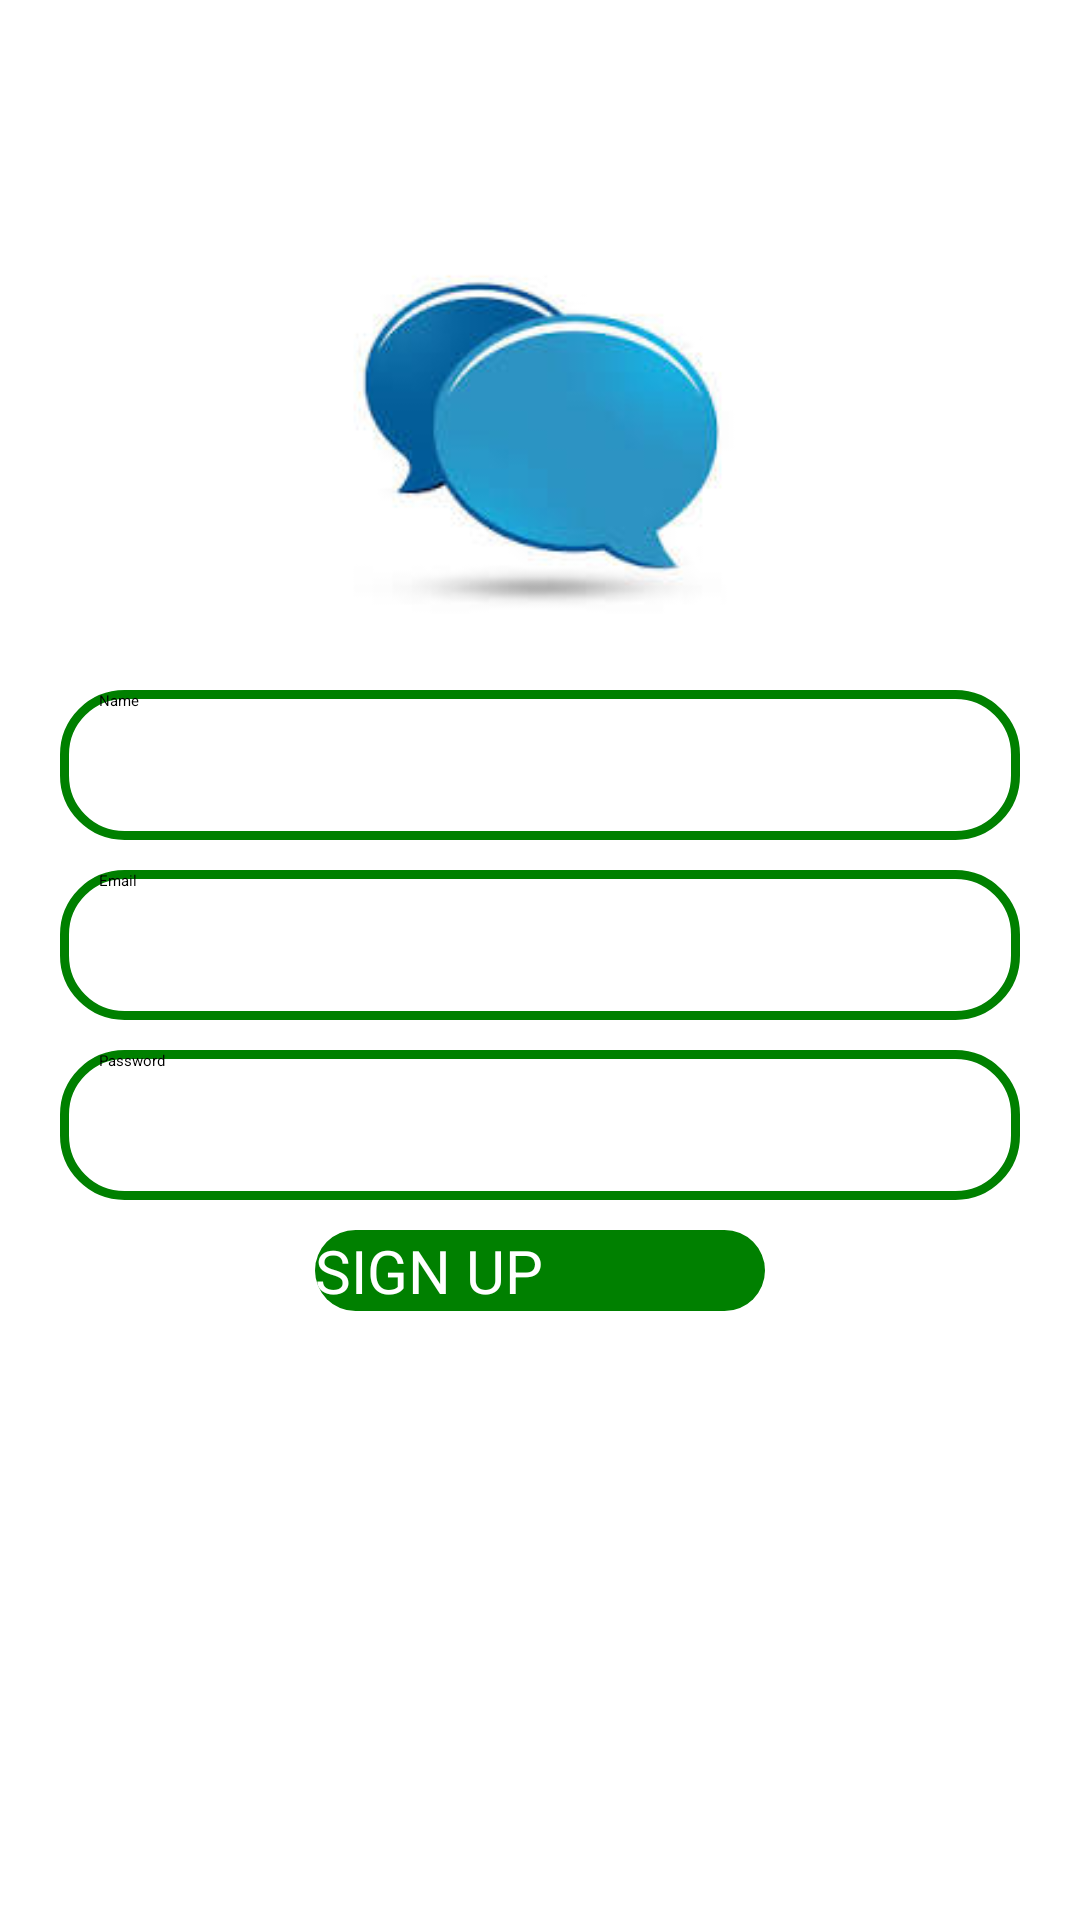

Where icons sit on this 1080px x 1920px app screen, as (x1, y1, x2, y2):
chat: (359, 276, 719, 599)
